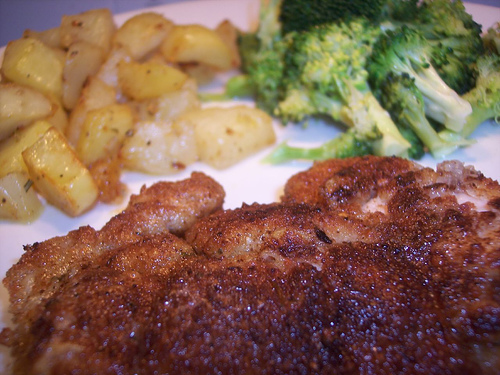broccoli: (272, 16, 413, 160), (368, 1, 491, 129)
